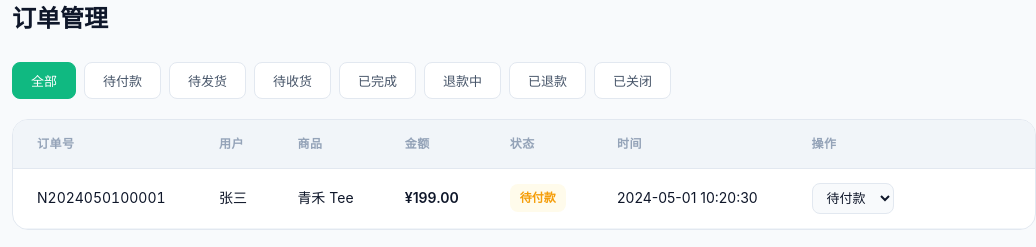
admin/Orders 订单管理 › 状态修改：下拉切换成功后更新订单状态
Select "已关闭" in the dropdown with class "status-select": (852, 198) x1=812 y1=183 x2=894 y2=214
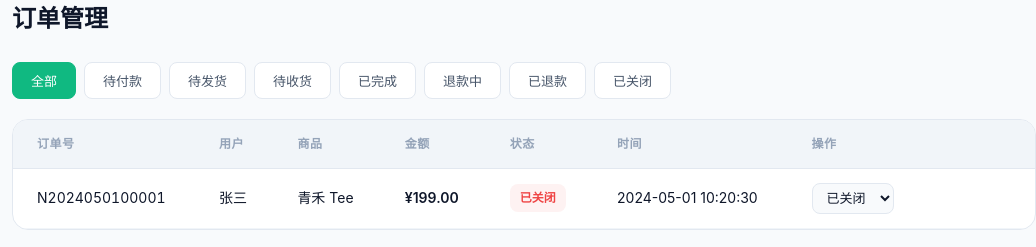
Result: the text with class "status-badge" reads "已关闭" at x1=520 y1=190 x2=556 y2=206
